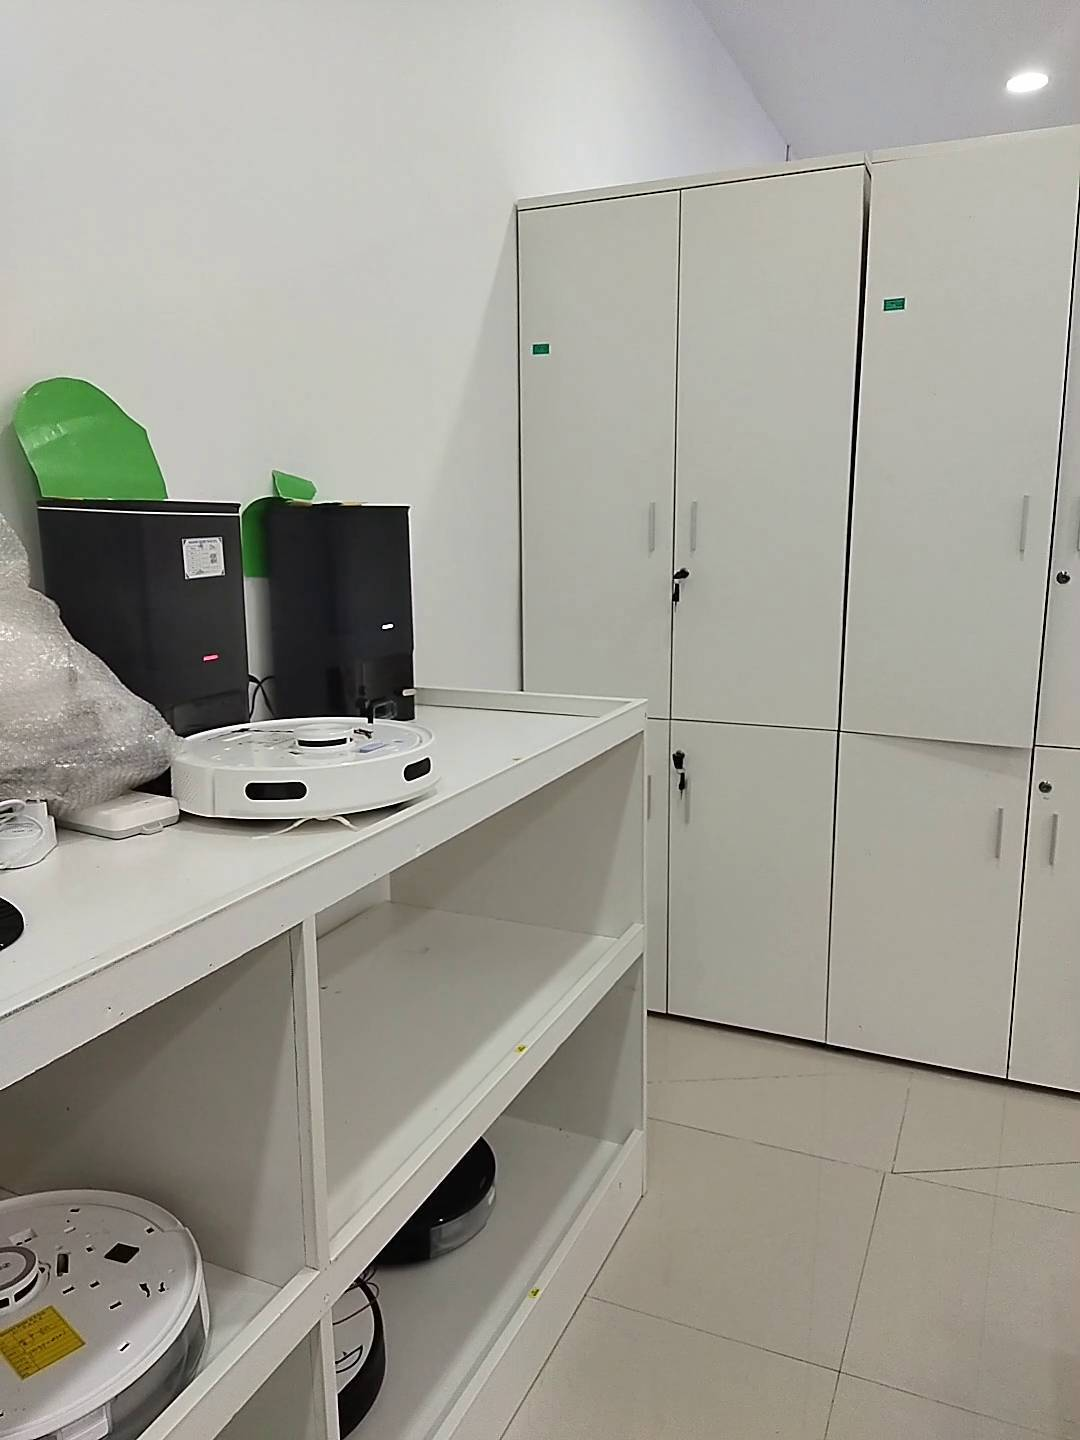dust collecting barrel: (39, 497, 255, 740), (263, 500, 421, 722)
